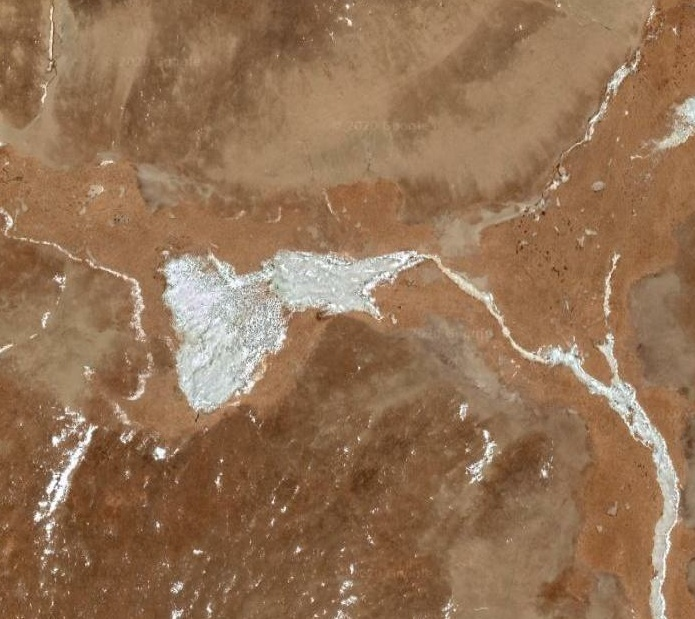slope: (156, 242, 431, 414)
